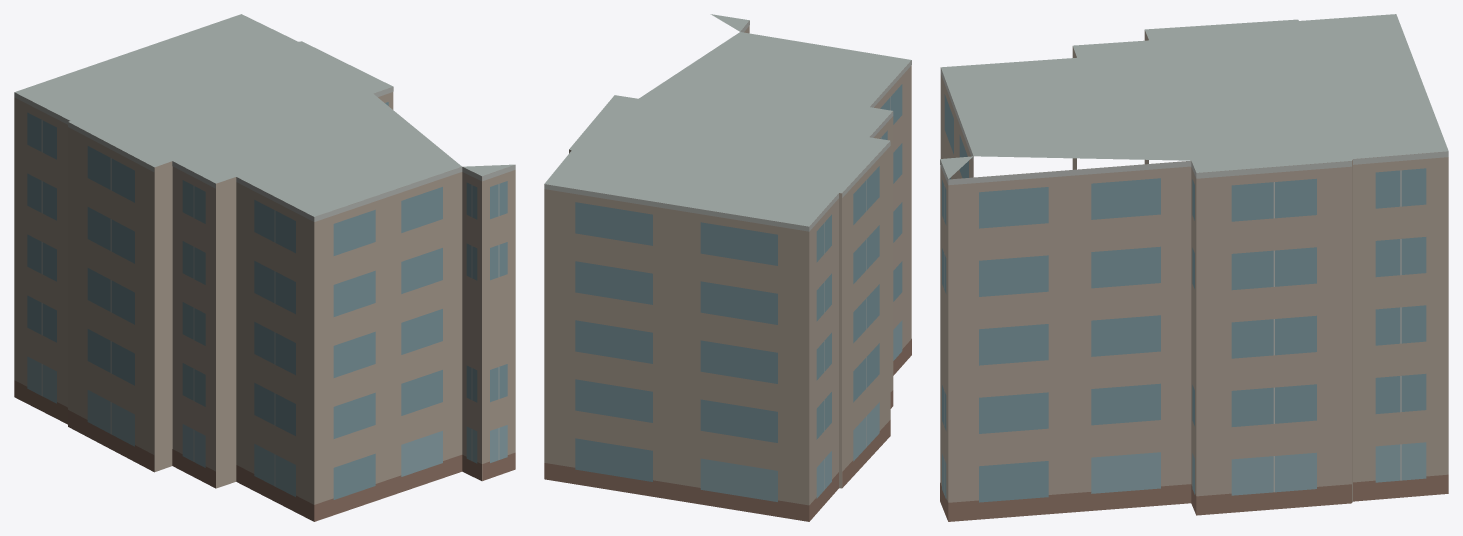
The model's file is survey-upis-32877802.glb.
The picture shows the model from 3 angles, left to right: view 1: azimuth 30°, elevation 25°; view 2: azimuth 150°, elevation 25°; view 3: azimuth 270°, elevation 25°; orthographic projection. The views are drawn at different scales.
Visible parts, largest first — view 1: survey-upis-32877802.tmp; view 2: survey-upis-32877802.tmp; view 3: survey-upis-32877802.tmp.
Boxes of the visible parts, x1=… form: survey-upis-32877802.tmp: x1=14, y1=14, x2=515, y2=521; survey-upis-32877802.tmp: x1=544, y1=14, x2=911, y2=521; survey-upis-32877802.tmp: x1=940, y1=14, x2=1448, y2=521.
Bounding box in the file's own units: 14.93 × 14.4 × 19.39.
